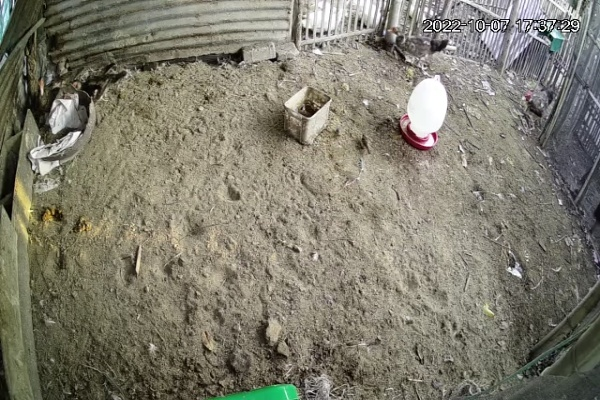Entog: (381, 17, 454, 76), (517, 83, 565, 124)
